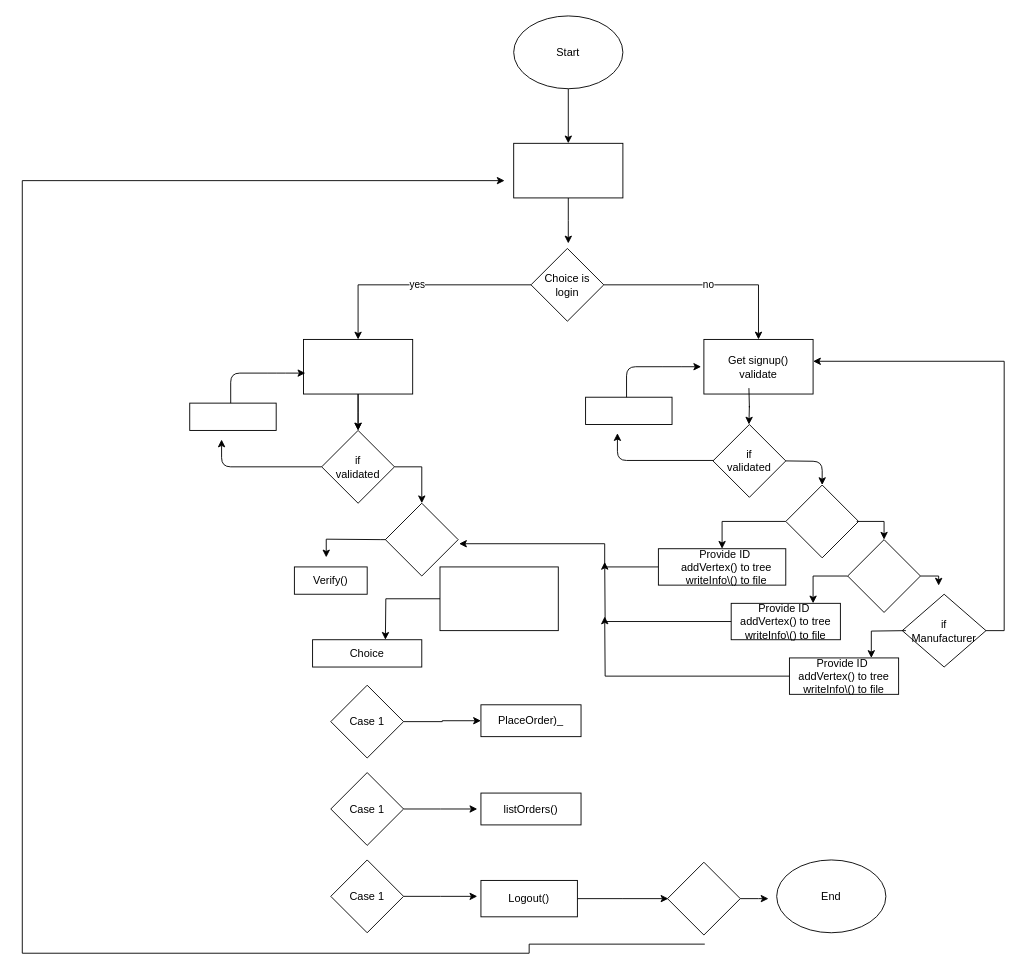
This 1027x976 diagram has some shape labels left out. Here are the shapes that lost their labels. From the top down, the centre of each, then its label:
point (568, 170): Show MENU InputChoice
point (358, 366): Get loginj() login
point (232, 416): errorMessageL()
point (628, 410): errorMessageS()
point (421, 539): PendingList
point (822, 521): if Distibutor
point (883, 575): if Shop
point (498, 598): Input choices: 1.Purchase 2.ListOrders 3.Logout
point (703, 898): Exit?
